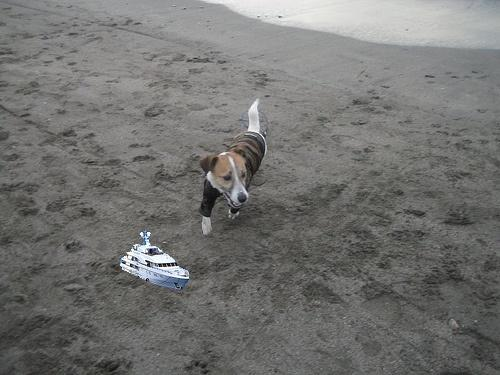tampered: (121, 231, 189, 290)
